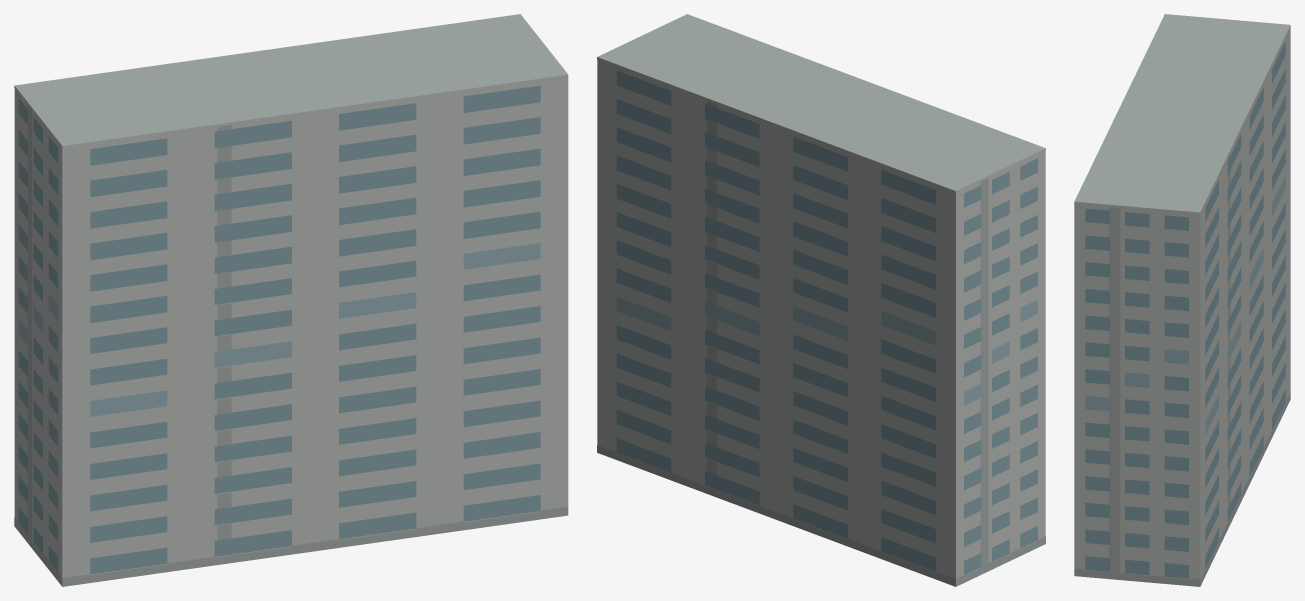
Rendered from residential-cf4641f0-437a-48cb-9a11-1ba49dbc8dde.glb.
3 views of the same model, side by side, from view 1: azimuth 30°, elevation 25°; view 2: azimuth 150°, elevation 25°; view 3: azimuth 270°, elevation 25° (orthographic). The views are drawn at different scales.
Parts seen in each view (by area): view 1: residential-cf4641f0-437a-48cb-9a11-1ba49dbc8dde.tmp; view 2: residential-cf4641f0-437a-48cb-9a11-1ba49dbc8dde.tmp; view 3: residential-cf4641f0-437a-48cb-9a11-1ba49dbc8dde.tmp.
Boxes of the visible parts, x1,y1,x2,y2 form: residential-cf4641f0-437a-48cb-9a11-1ba49dbc8dde.tmp: [14, 14, 568, 586]; residential-cf4641f0-437a-48cb-9a11-1ba49dbc8dde.tmp: [597, 14, 1045, 586]; residential-cf4641f0-437a-48cb-9a11-1ba49dbc8dde.tmp: [1074, 14, 1290, 586].
Bounding box in the file's own units: 44.35 × 39 × 20.44.
